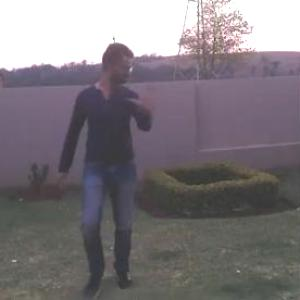follow_hand: (131, 78, 162, 111)
